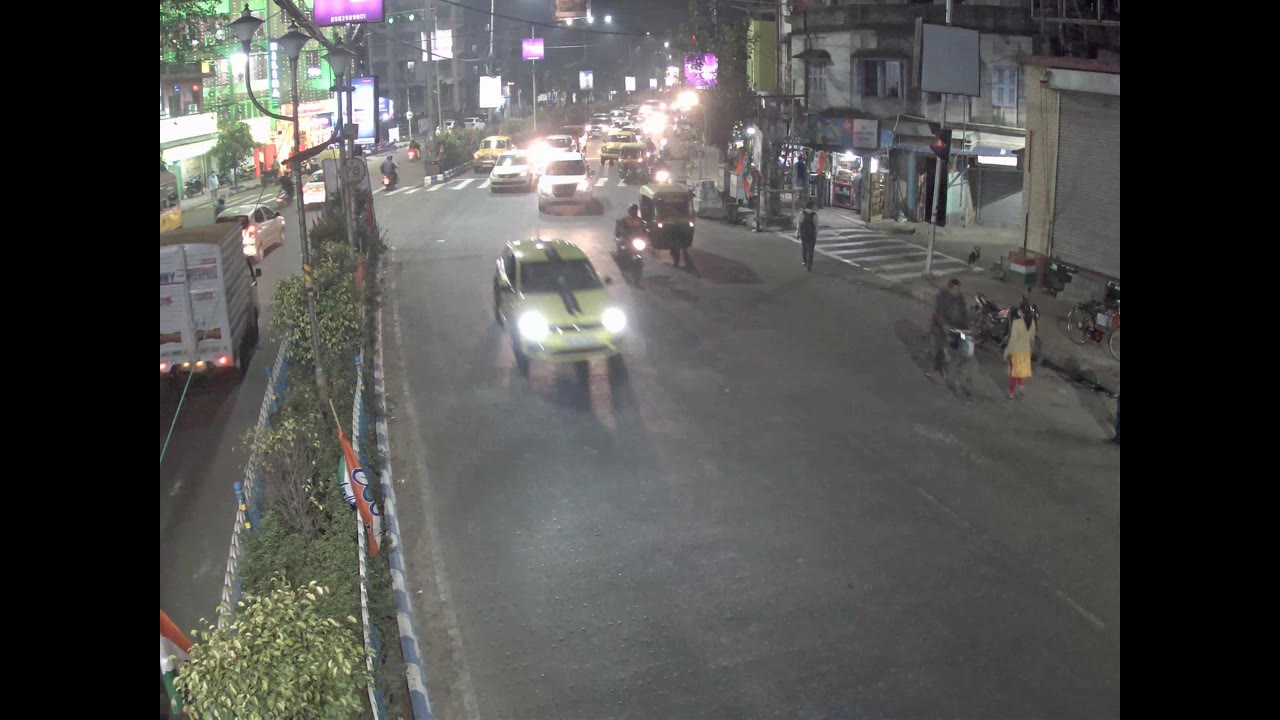auto-rickshaw: (640, 182, 699, 254), (617, 141, 658, 188)
car: (492, 244, 626, 370), (225, 204, 294, 259), (541, 154, 597, 212), (492, 151, 538, 194), (479, 132, 510, 160)
person: (932, 276, 982, 366), (999, 295, 1037, 405), (795, 199, 823, 276), (615, 203, 646, 237)
